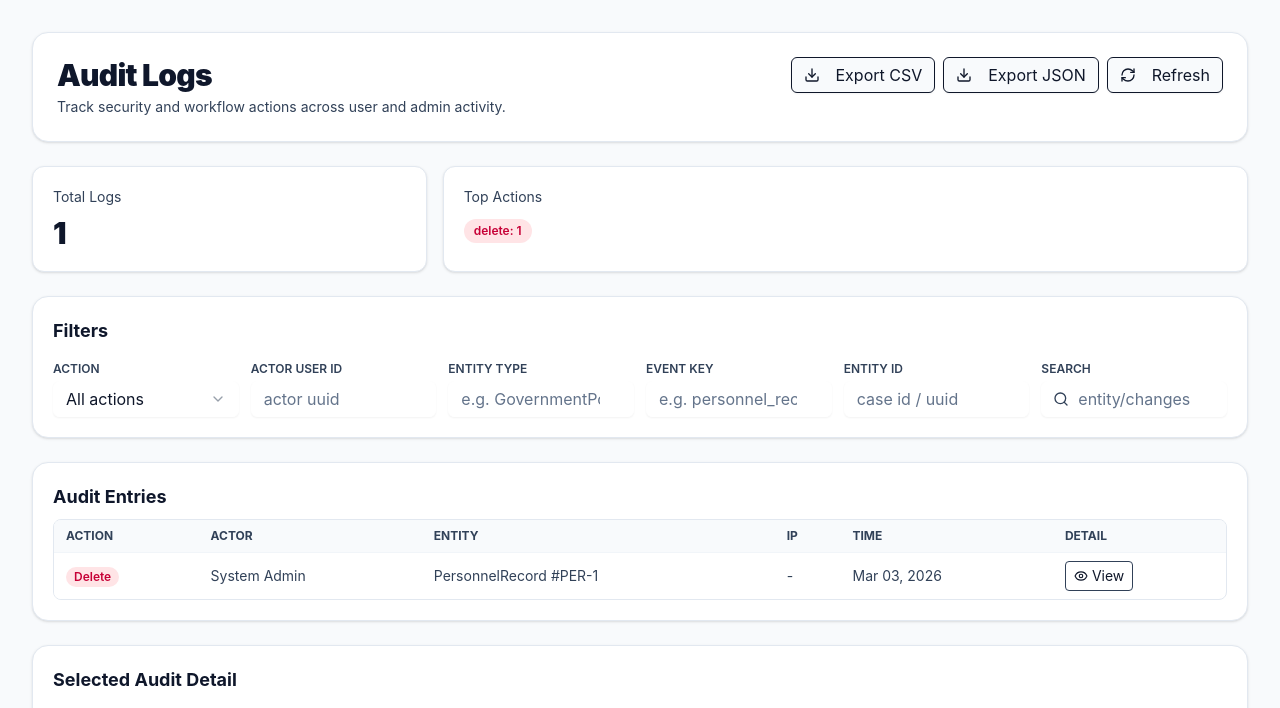
Scenario: AuditLogsPage export actions › applies event key filter from backend catalog
The image size is (1280, 708).
Type "personnel_record_deleted" into the field labelled "Event Key" at (739, 399), box x1=646 y1=381 x2=832 y2=417
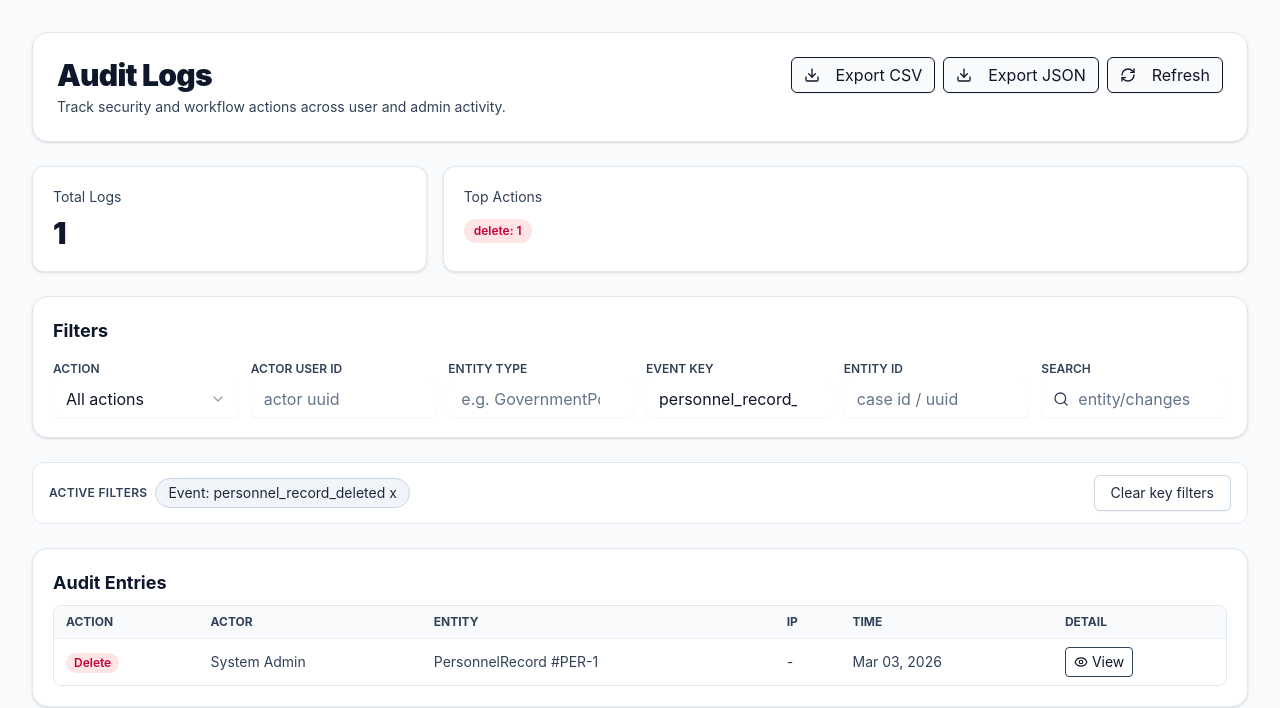
expect the text "Active filters" is shown: met, box x1=49 y1=485 x2=147 y2=501
Click the button "Clear key filters" at (1162, 493), box x1=1094 y1=475 x2=1231 y2=511
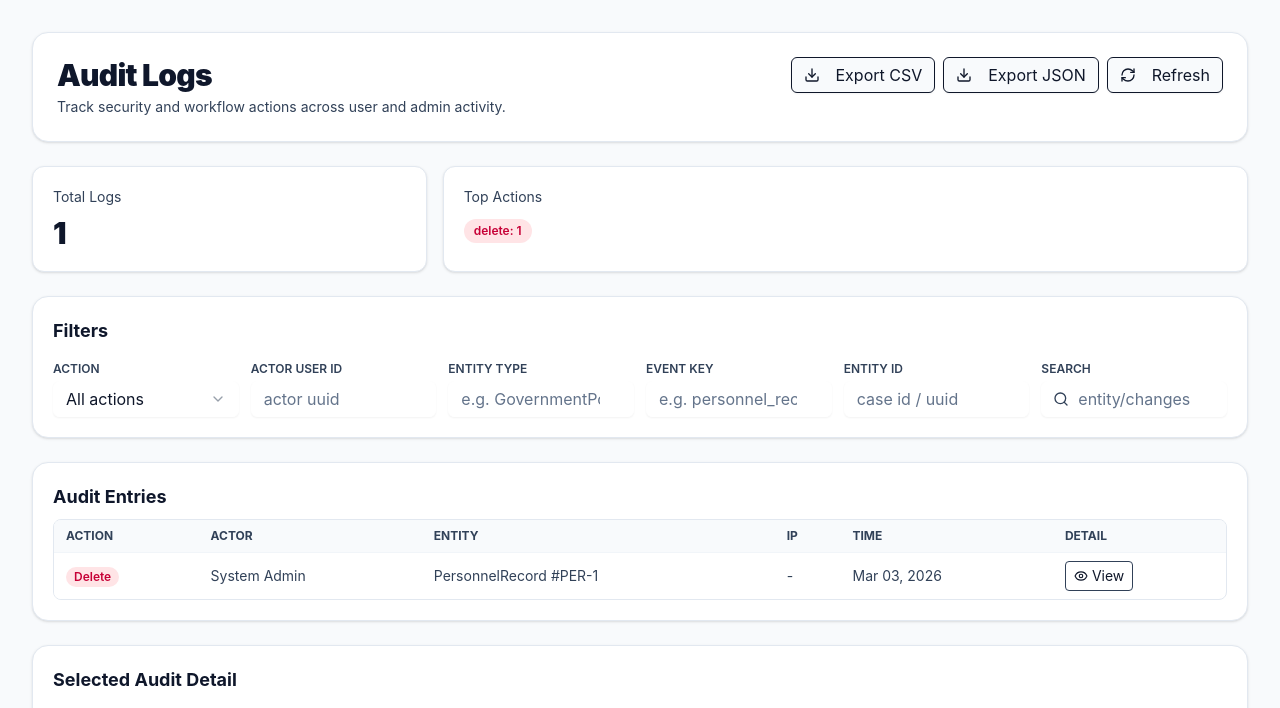
expect the field labelled "Event Key" is empty: met, box x1=646 y1=381 x2=832 y2=417
